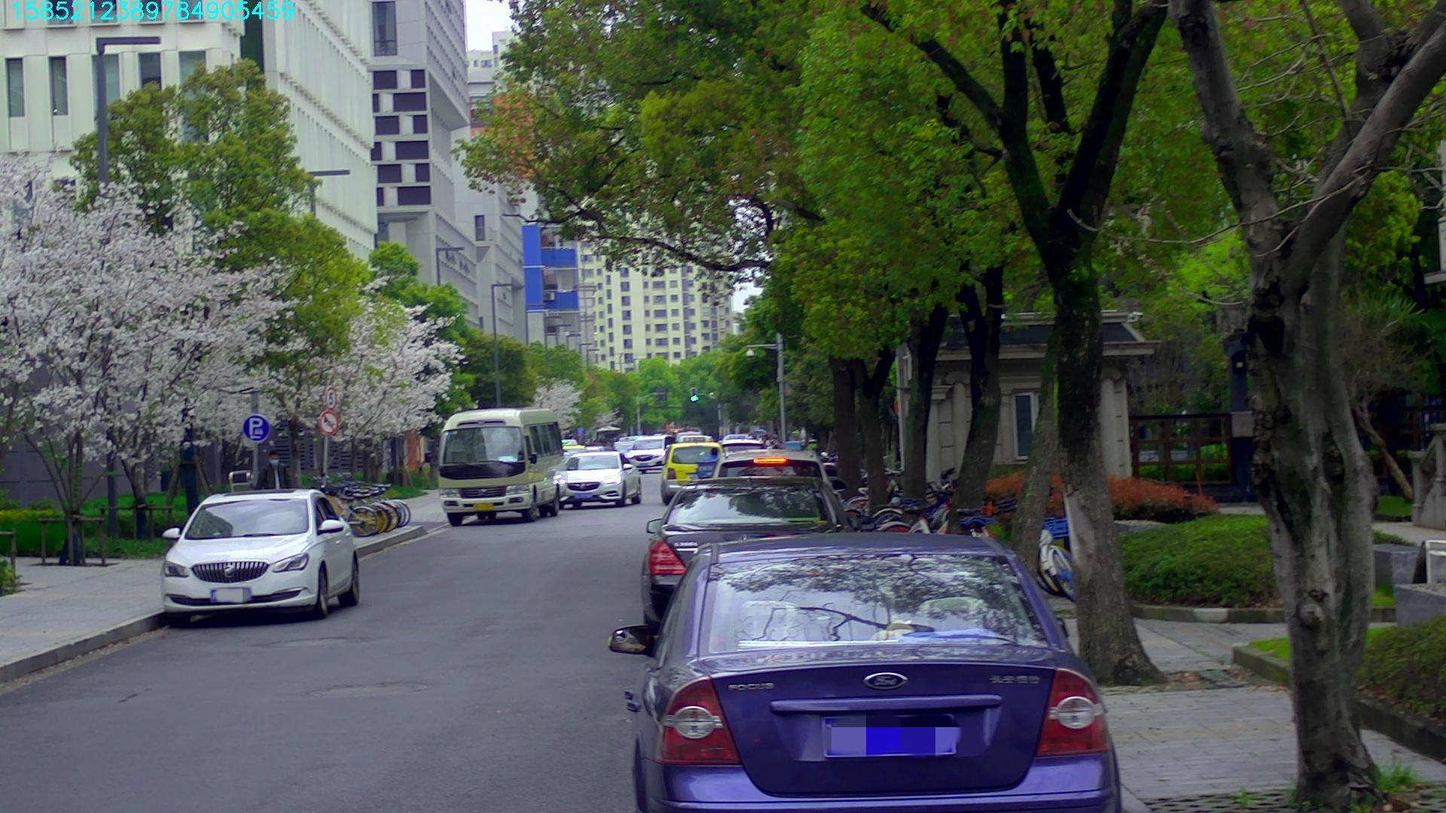green: (690, 394, 698, 401)
